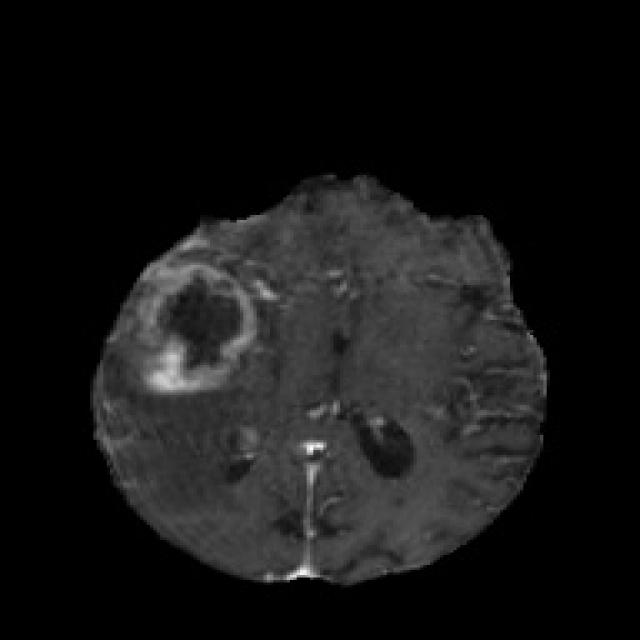positive: (132, 266, 262, 394)
